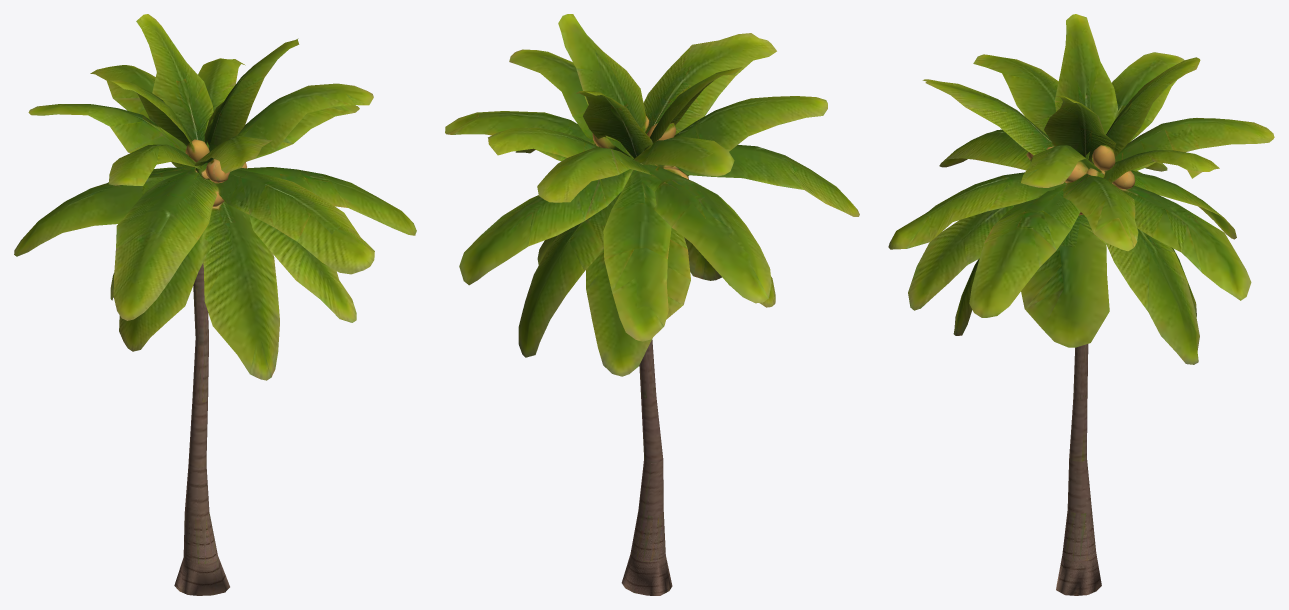
Rendered from tree_palm2_hi.glb.
The picture shows the model from 3 angles, left to right: view 1: azimuth 30°, elevation 25°; view 2: azimuth 150°, elevation 25°; view 3: azimuth 270°, elevation 25°; orthographic projection. The views are drawn at different scales.
Bounding box in the file's own units: 0.6157 × 0.9526 × 0.627.
Materials: 1 (1 with a texture image).
